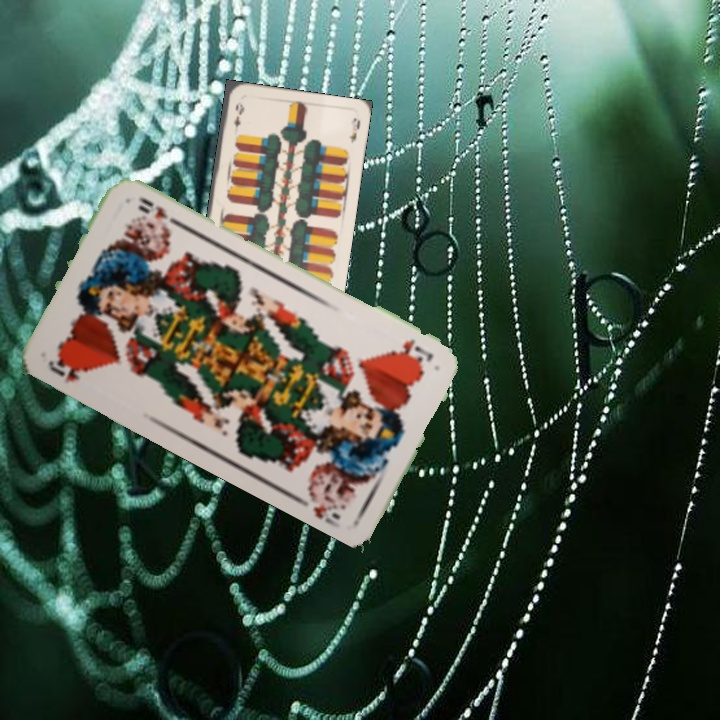E9: (229, 97, 245, 130)
HO: (44, 352, 90, 386), (396, 334, 436, 364)
